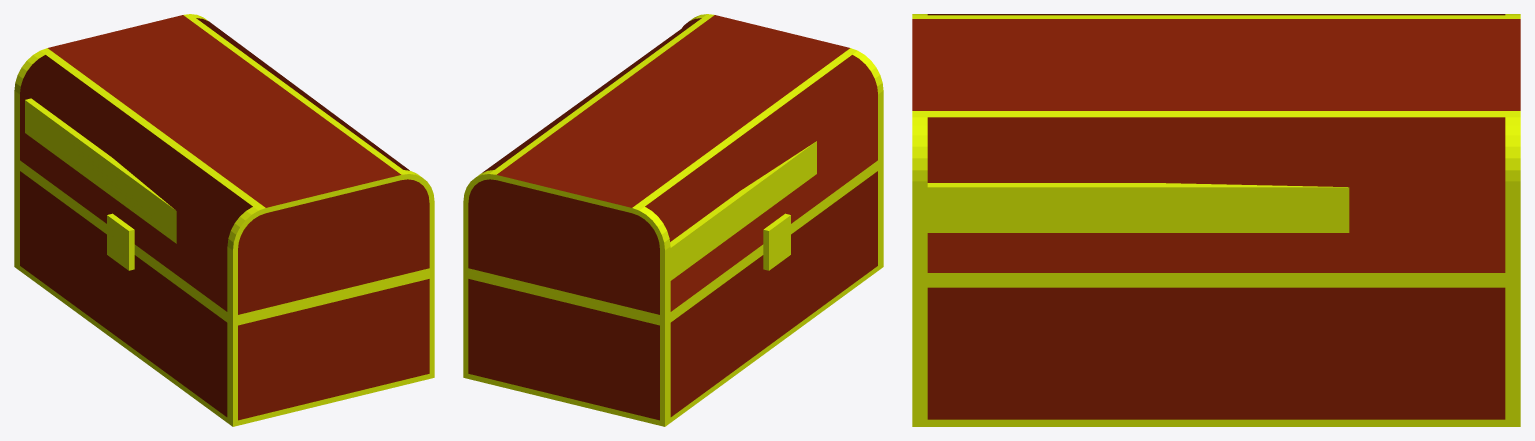
File: RedChest.fbx
3 views of the same model, side by side, from view 1: azimuth 30°, elevation 25°; view 2: azimuth 150°, elevation 25°; view 3: azimuth 270°, elevation 25° (orthographic). The views are drawn at different scales.
Visible parts, largest first — view 1: chest; view 2: chest; view 3: chest.
Part boxes in pixels (x1=…): chest: x1=14, y1=14, x2=434, y2=426; chest: x1=463, y1=14, x2=883, y2=426; chest: x1=912, y1=14, x2=1520, y2=426.
Size of the model in its own units: 206 by 200 by 375.
